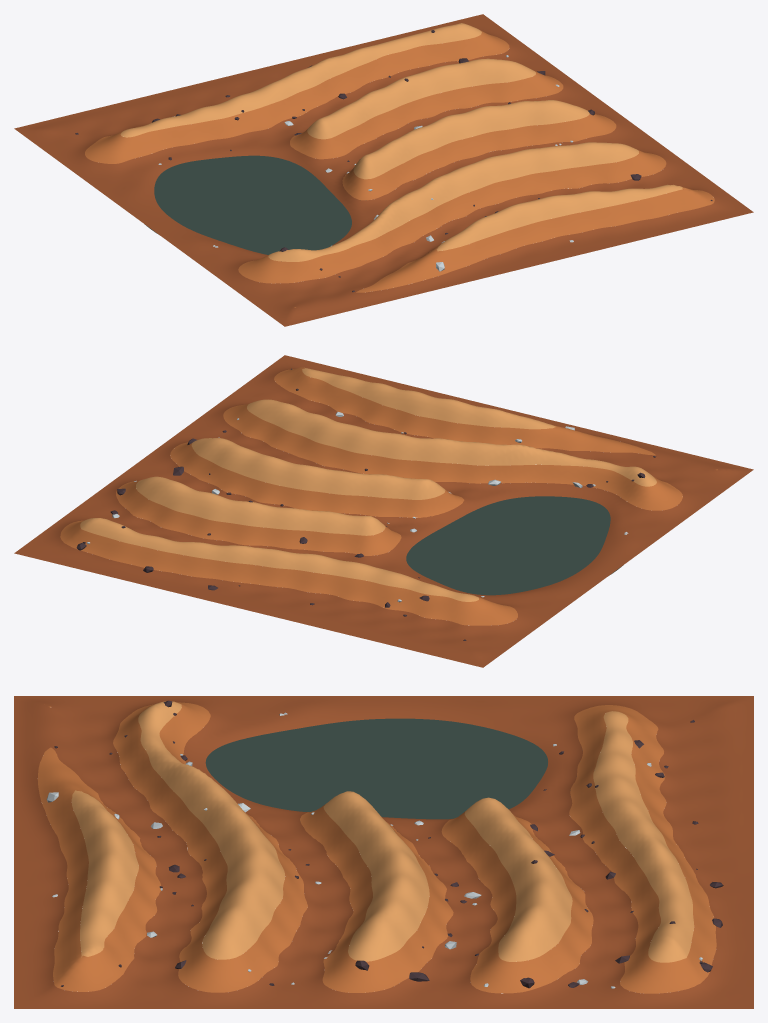
The model's file is titan_terrain.glb.
3 views of the same model, one above another, from view 1: azimuth 30°, elevation 25°; view 2: azimuth 150°, elevation 25°; view 3: azimuth 270°, elevation 25° (orthographic). The views are drawn at different scales.
Parts seen in each view (by area): view 1: ground_low, ground_mid, ground_high, lake; view 2: ground_low, ground_mid, ground_high, lake, rock_01; view 3: ground_low, ground_mid, ground_high, lake, rock_01, ice_rock_01.
Boxes of the visible parts, bbox=[...] form: ground_low: bbox=[14, 14, 753, 326]; ground_mid: bbox=[85, 30, 714, 307]; ground_high: bbox=[120, 23, 683, 261]; lake: bbox=[144, 155, 351, 254]; ground_low: bbox=[14, 355, 753, 667]; ground_mid: bbox=[60, 367, 717, 625]; ground_high: bbox=[80, 367, 656, 601]; lake: bbox=[406, 496, 623, 595]; rock_01: bbox=[76, 368, 656, 640]; ground_low: bbox=[14, 696, 753, 1008]; ground_mid: bbox=[37, 702, 716, 993]; ground_high: bbox=[71, 701, 694, 962]; lake: bbox=[183, 718, 547, 819]; rock_01: bbox=[54, 700, 723, 988]; ice_rock_01: bbox=[46, 712, 702, 988].
Bounding box in the file's own units: 60 × 4.91 × 60.
